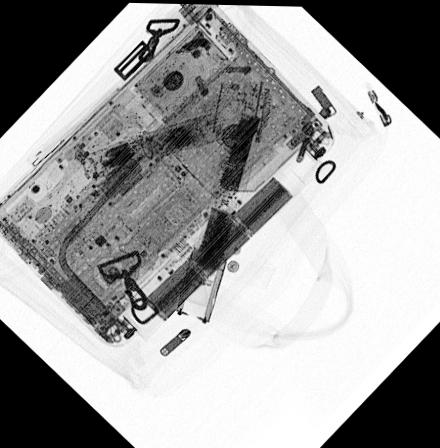Baton: (174, 77, 272, 323), (81, 108, 228, 180)
